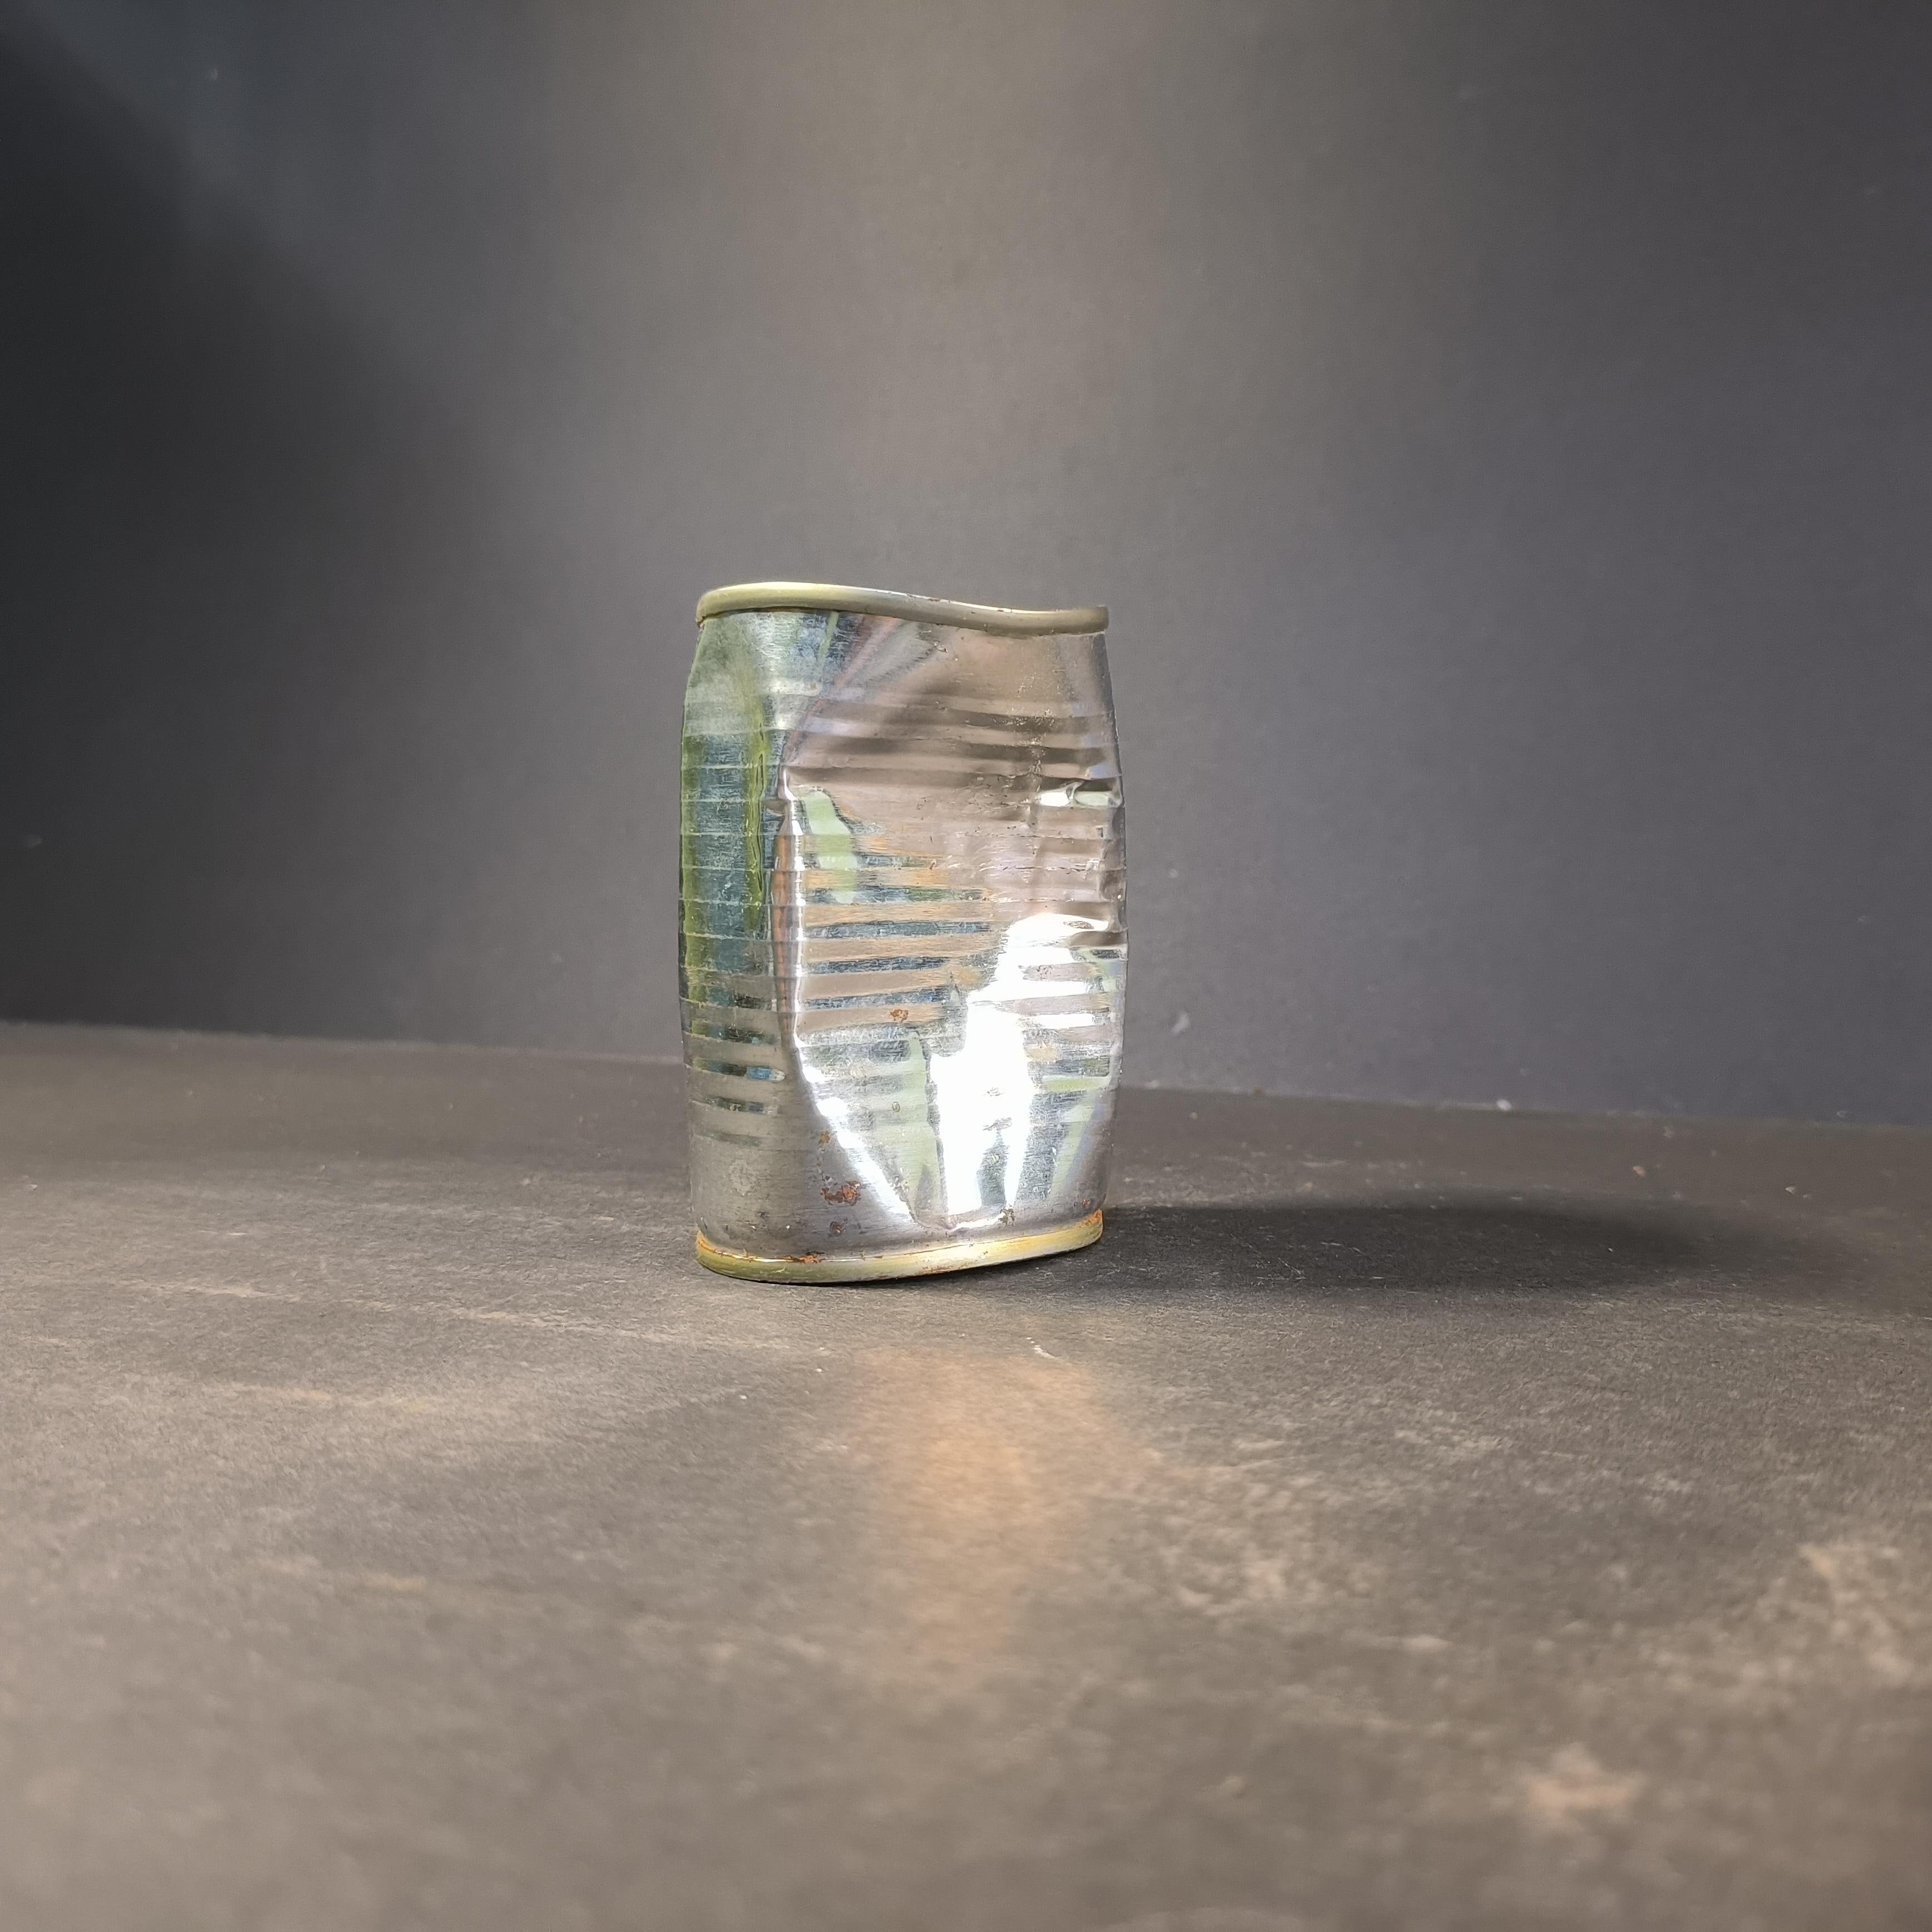Dented: (667, 548, 1155, 1311)
